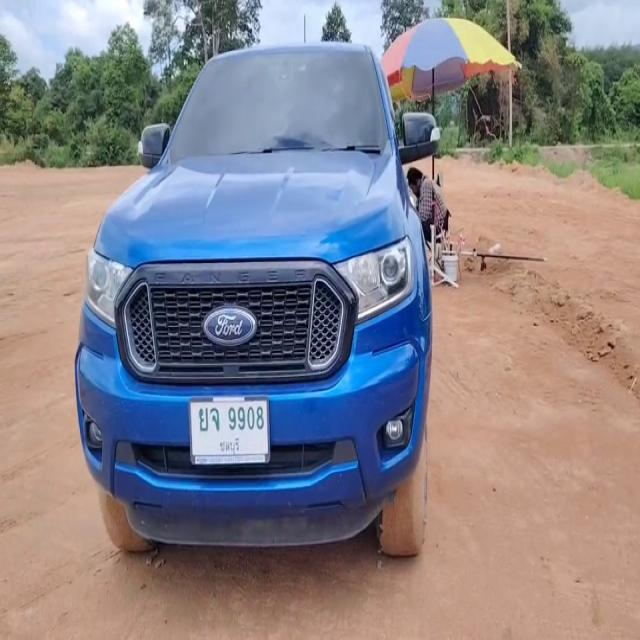Digit: (228, 401, 266, 434)
Licenseplate: (188, 396, 271, 466)
Provincename: (219, 434, 240, 456)
Thaichar: (198, 403, 220, 433)
